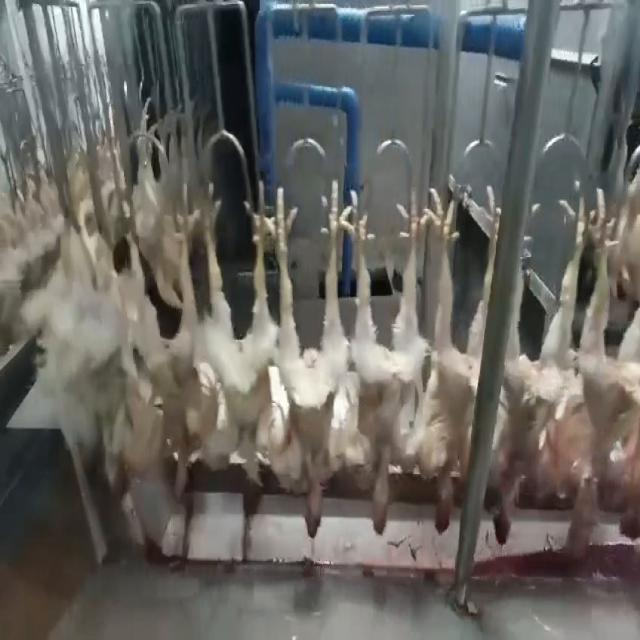chicken: (423, 169, 508, 534), (536, 186, 616, 563), (346, 182, 430, 540), (186, 181, 274, 508), (274, 171, 340, 549), (114, 185, 182, 488), (485, 258, 527, 552), (608, 205, 640, 544)
